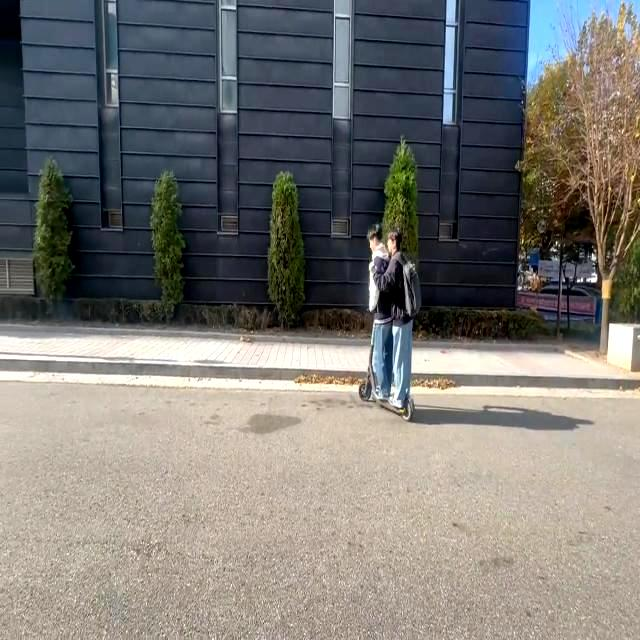bare_head: (362, 218, 383, 252), (379, 227, 405, 254)
human: (383, 231, 424, 412), (360, 221, 392, 403)
kickboard: (352, 374, 420, 423)
